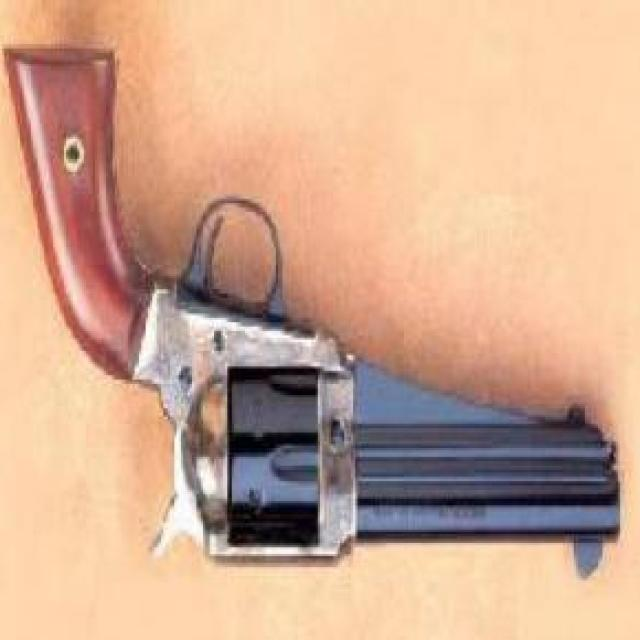pistol: (2, 44, 625, 592)
